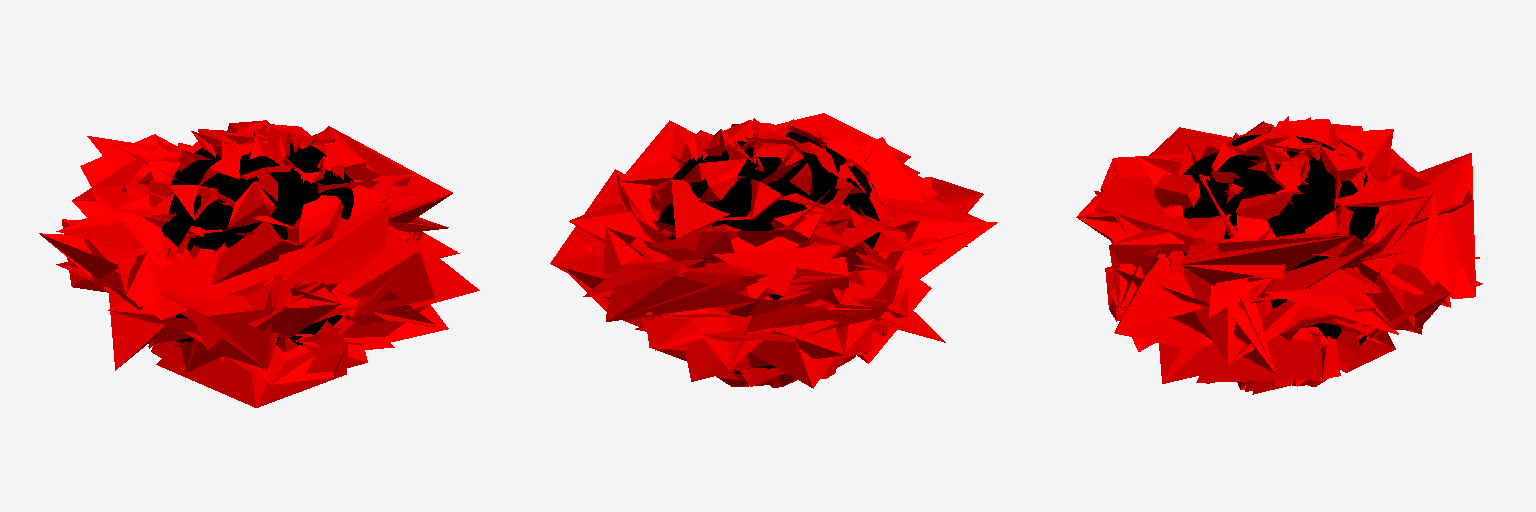
Rendered from sun.obj.
3 views of the same model, side by side, from view 1: azimuth 30°, elevation 25°; view 2: azimuth 150°, elevation 25°; view 3: azimuth 270°, elevation 25° (orthographic).
Visible parts, largest first — view 1: Outer_corona, Inner_corona, Chromosphere; view 2: Outer_corona, Inner_corona, Chromosphere; view 3: Outer_corona, Inner_corona, Chromosphere.
Boxes of the visible parts, <box> form: Outer_corona: <box>39,126,479,407</box>; Inner_corona: <box>138,120,366,348</box>; Chromosphere: <box>162,143,353,346</box>; Outer_corona: <box>550,113,997,388</box>; Inner_corona: <box>650,118,901,387</box>; Chromosphere: <box>658,132,879,373</box>; Outer_corona: <box>1076,124,1482,386</box>; Inner_corona: <box>1154,116,1401,394</box>; Chromosphere: <box>1183,135,1378,345</box>.
Size of the model in its own units: 48.66 by 32.43 by 47.67.